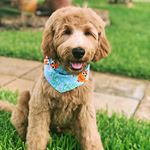puppy: (22, 2, 113, 150)
